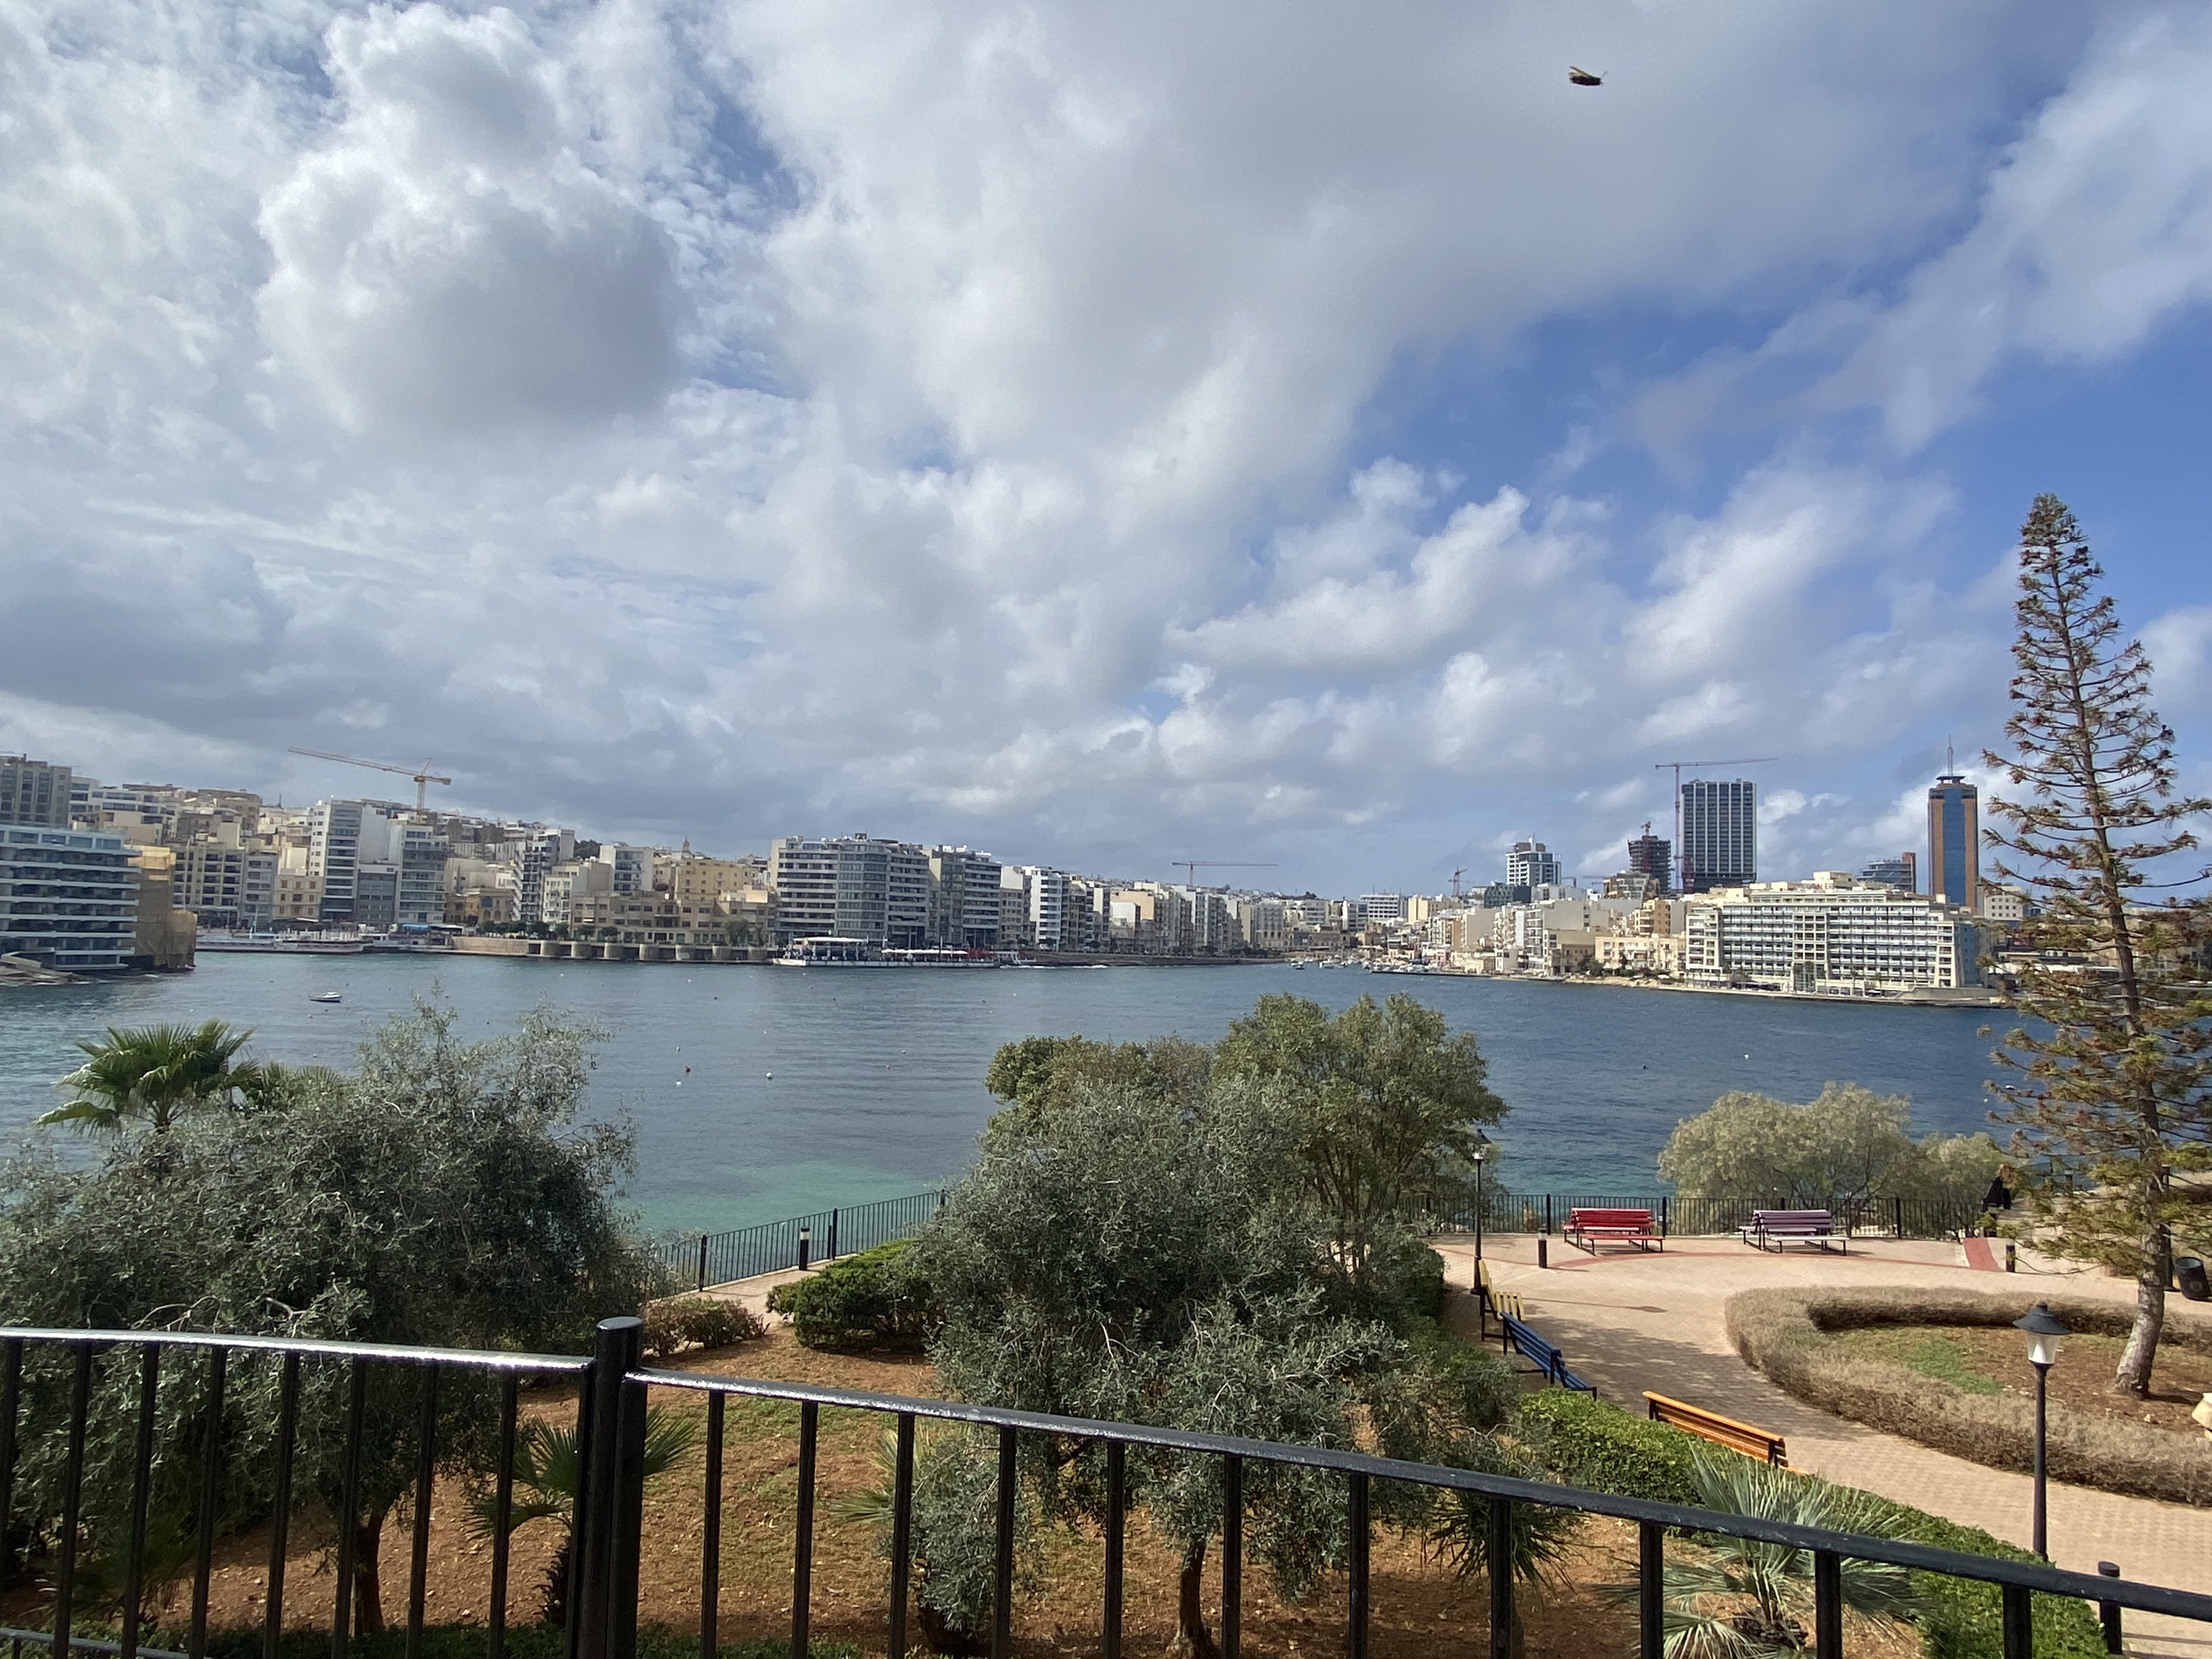crane: (282, 718, 502, 796)
